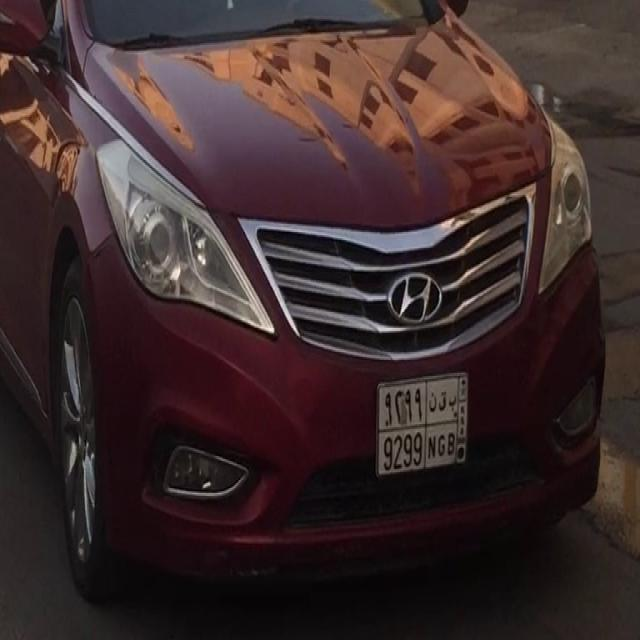Car-plate: (368, 352, 484, 494)
